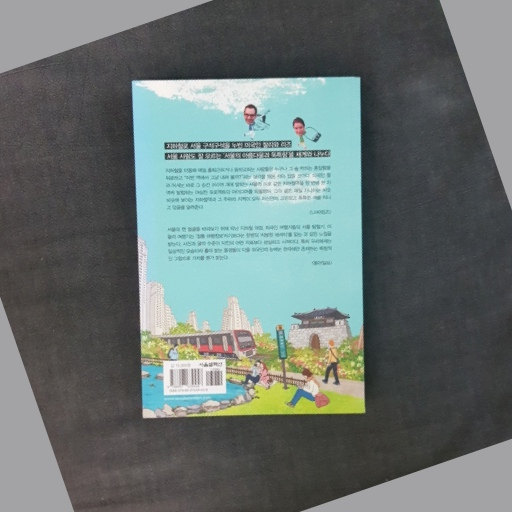Paper_0: (124, 74, 375, 424)
